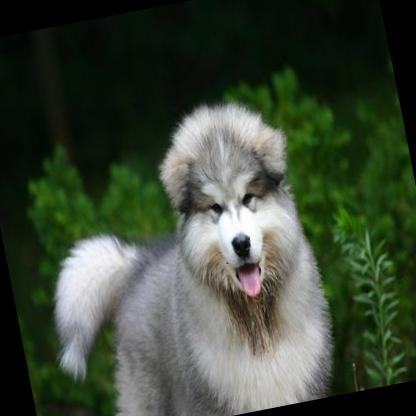malamute: (17, 93, 342, 416)
